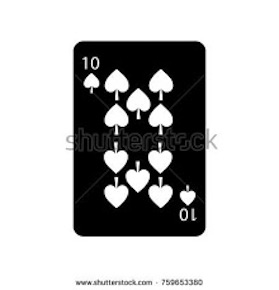TenOfSpades: (69, 33, 208, 246)
